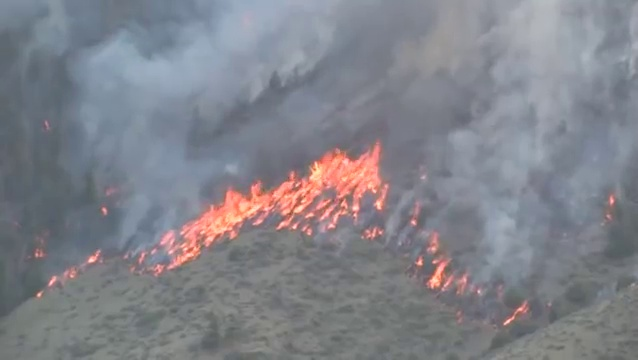fire: (160, 152, 387, 256), (429, 262, 446, 288)
